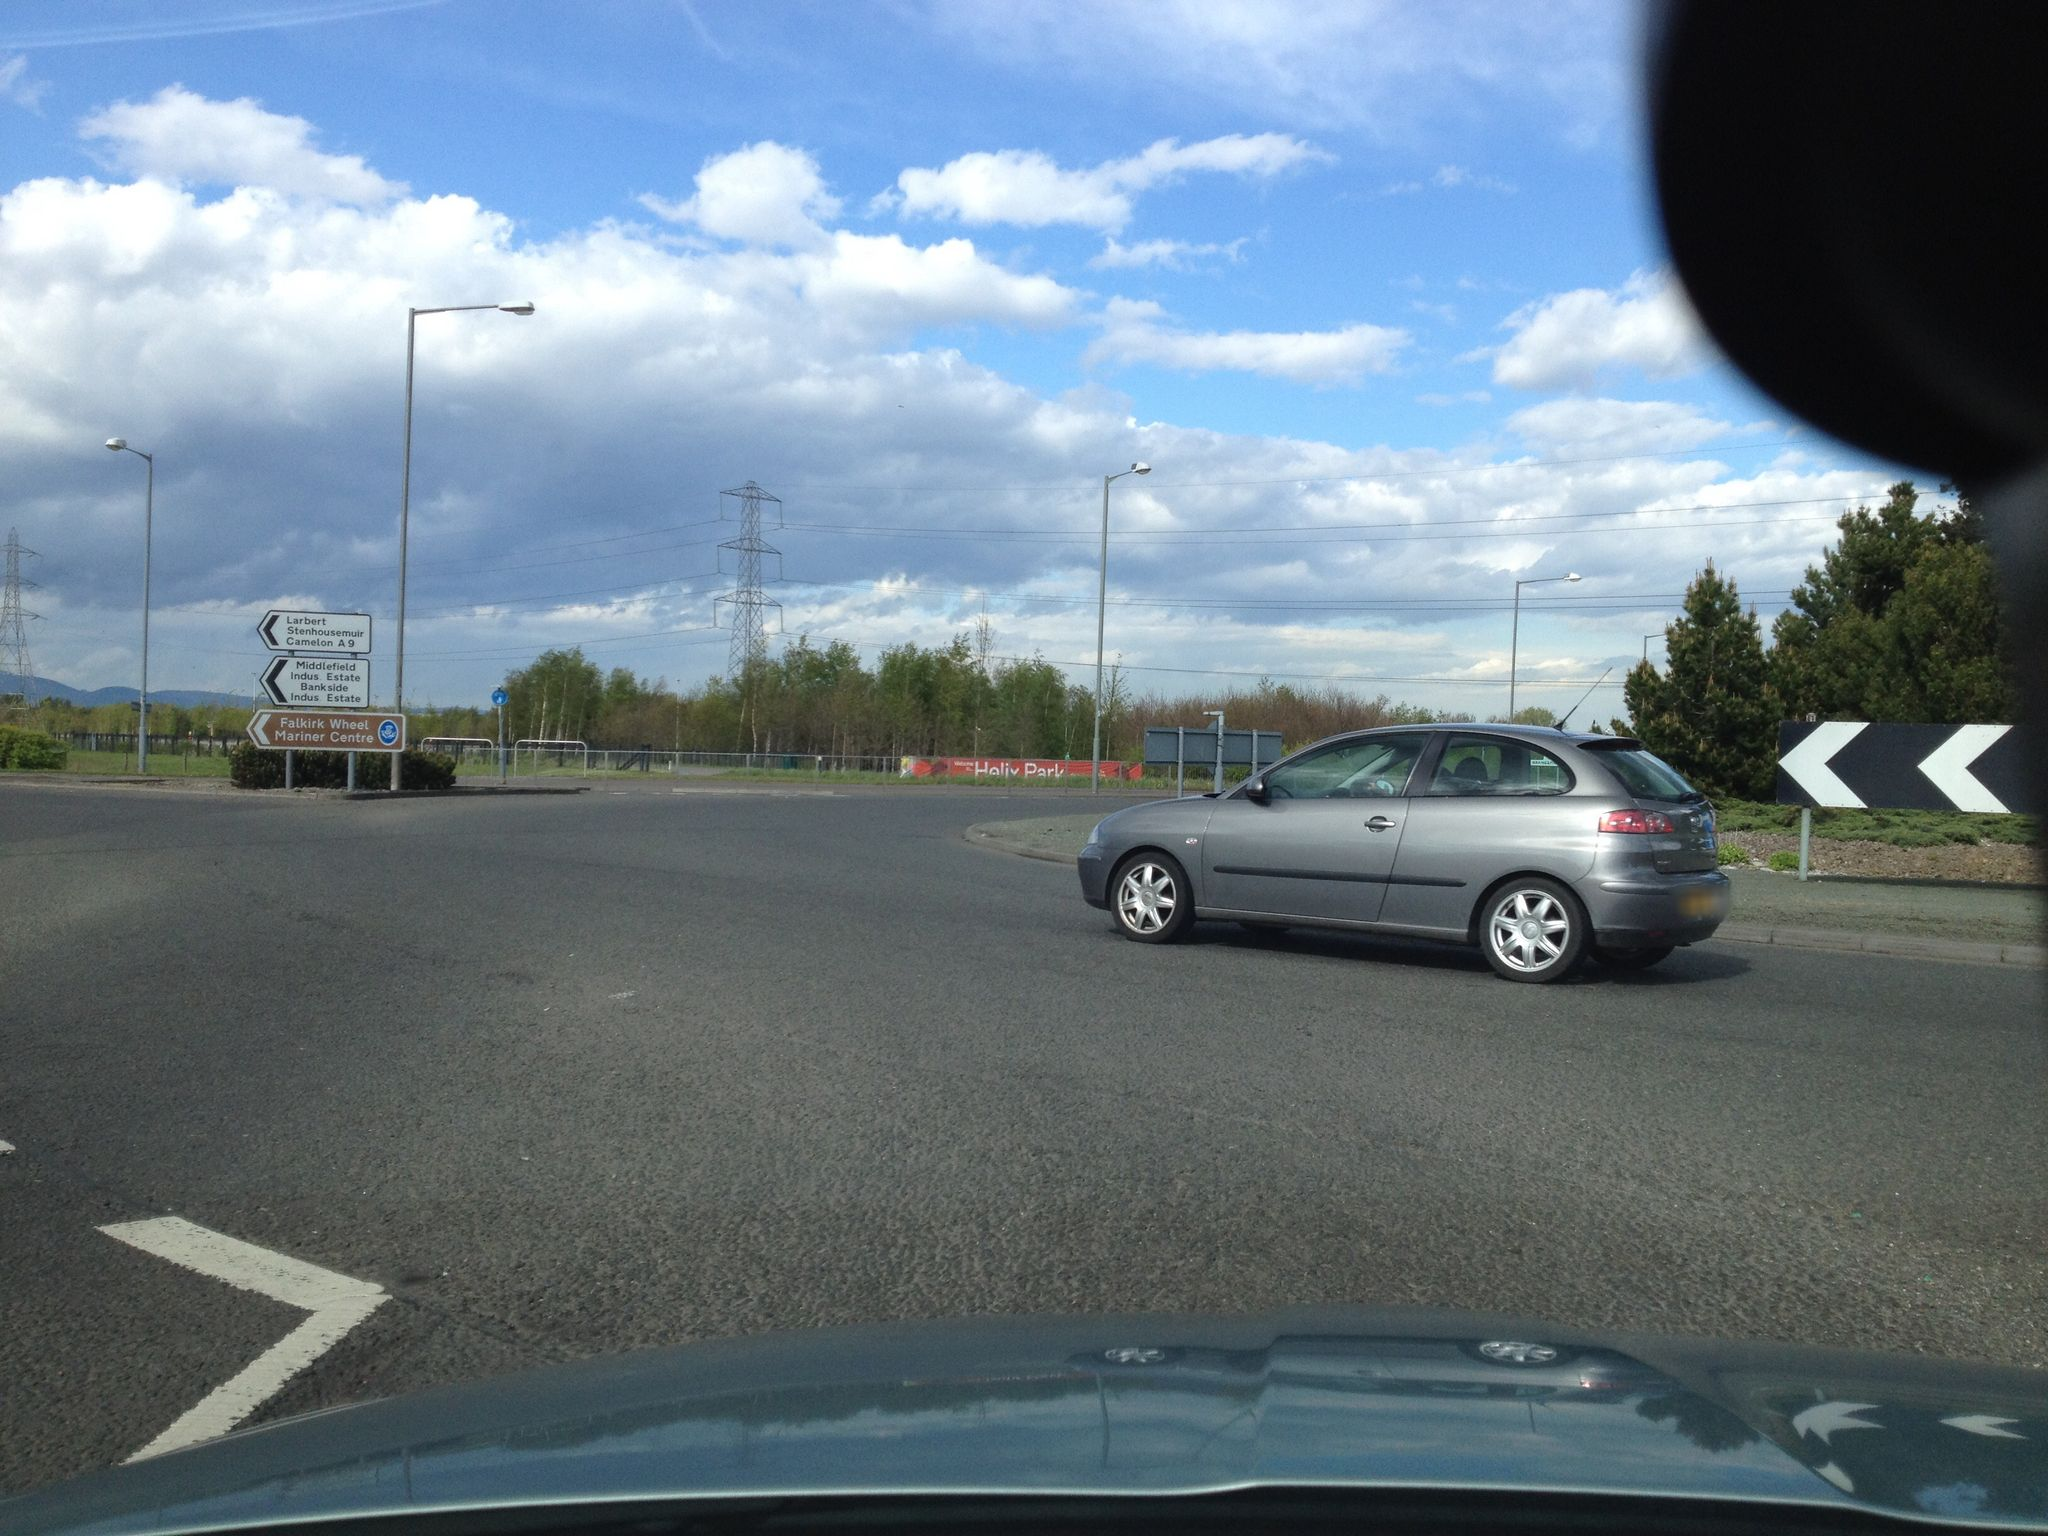car: (1076, 721, 1734, 984)
